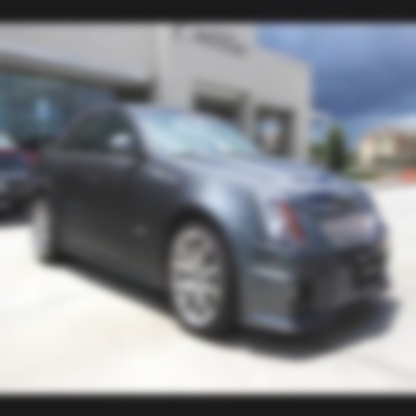Vehicle: (29, 100, 396, 352)
